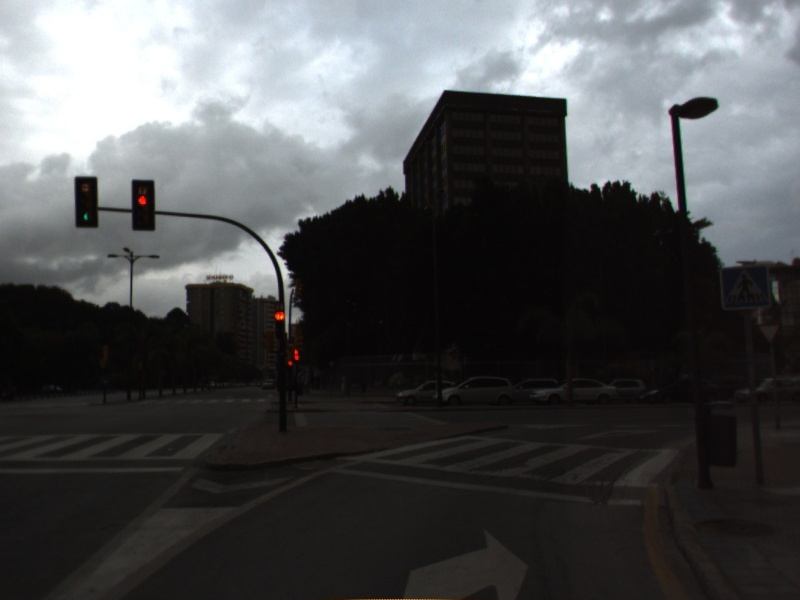RIGHT: (394, 523, 536, 600)
